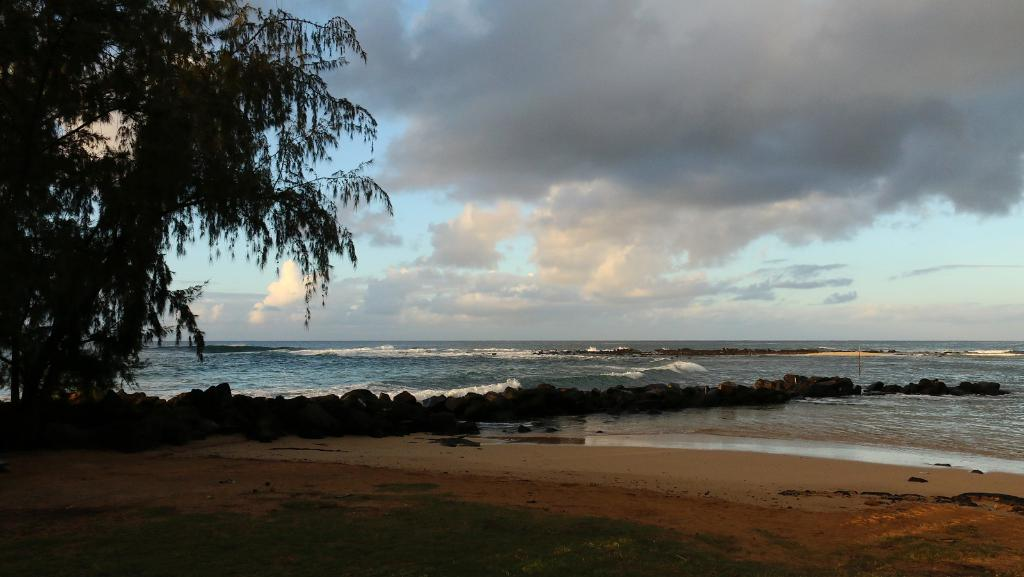Tree: (0, 0, 396, 418)
